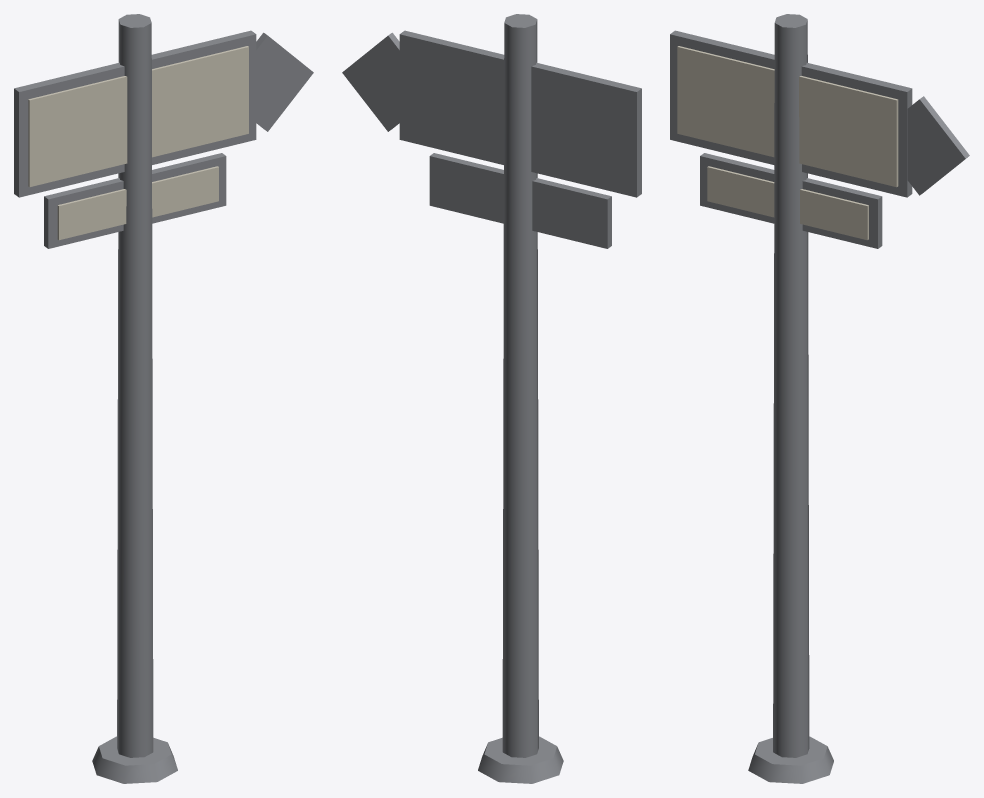
The model's file is SM_H_Route_Sign_A.obj.
3 renders of one model, left to right at view 1: azimuth 30°, elevation 25°; view 2: azimuth 150°, elevation 25°; view 3: azimuth 330°, elevation 25°, orthographic.
Visible parts, largest first — view 1: post, plate_face, plate_main, plate_sub_face, plate_sub, arrow_blade, foot_flange; view 2: post, plate_main, plate_sub, arrow_blade, foot_flange; view 3: post, plate_face, plate_main, plate_sub_face, plate_sub, arrow_blade, foot_flange.
Part boxes in pixels (x1=…): post: x1=117, y1=14, x2=153, y2=757; plate_face: x1=28, y1=46, x2=248, y2=187; plate_main: x1=14, y1=30, x2=256, y2=197; plate_sub_face: x1=57, y1=166, x2=218, y2=240; plate_sub: x1=44, y1=153, x2=226, y2=248; arrow_blade: x1=256, y1=32, x2=313, y2=131; foot_flange: x1=92, y1=736, x2=177, y2=783; post: x1=502, y1=14, x2=538, y2=757; plate_main: x1=399, y1=30, x2=641, y2=197; plate_sub: x1=429, y1=153, x2=611, y2=248; arrow_blade: x1=342, y1=32, x2=399, y2=131; foot_flange: x1=478, y1=736, x2=563, y2=783; post: x1=773, y1=14, x2=809, y2=757; plate_face: x1=677, y1=46, x2=898, y2=187; plate_main: x1=670, y1=30, x2=912, y2=197; plate_sub_face: x1=707, y1=166, x2=868, y2=240; plate_sub: x1=700, y1=153, x2=882, y2=248; arrow_blade: x1=907, y1=96, x2=969, y2=195; foot_flange: x1=748, y1=736, x2=833, y2=783.
Size of the model in its own units: 0.9956 by 2.4 by 0.26.
